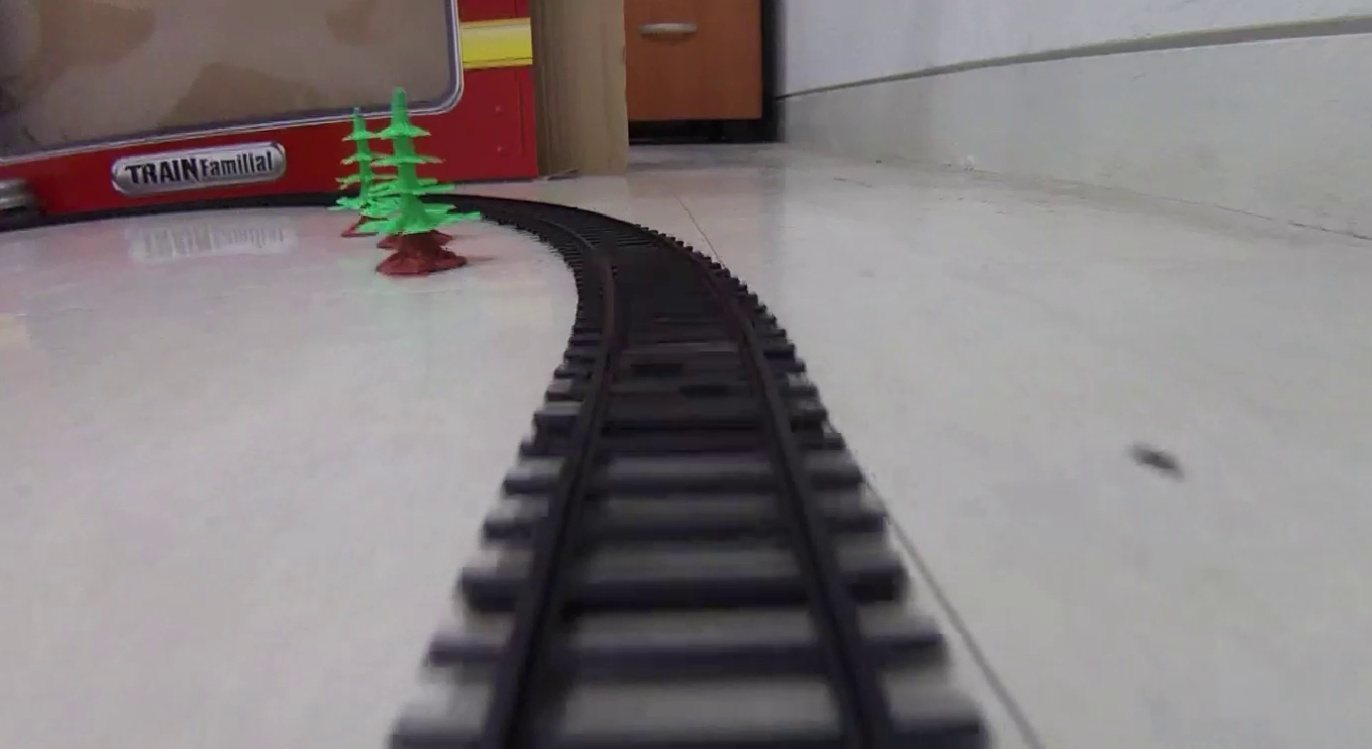tree: (376, 90, 465, 279)
